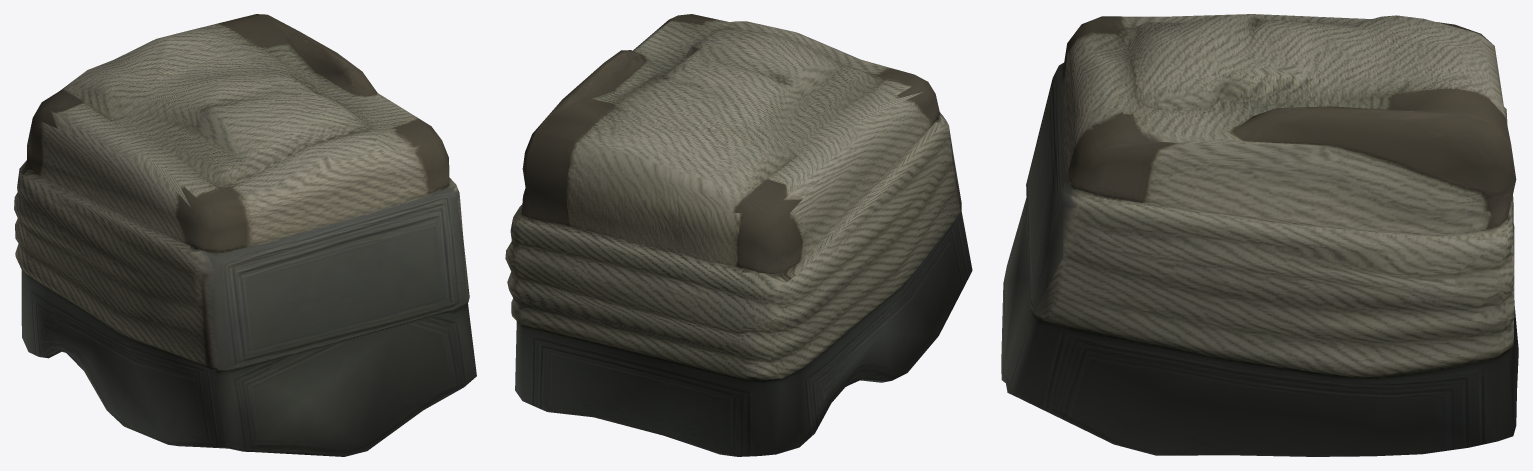
File: WrappedCore-LOD1.glb
The picture shows the model from 3 angles, left to right: view 1: azimuth 30°, elevation 25°; view 2: azimuth 150°, elevation 25°; view 3: azimuth 270°, elevation 25°; orthographic projection. The views are drawn at different scales.
Visible parts, largest first — view 1: WrappedCore_LOD1; view 2: WrappedCore_LOD1; view 3: WrappedCore_LOD1.
Part boxes in pixels (x1=…): WrappedCore_LOD1: x1=14, y1=14, x2=476, y2=456; WrappedCore_LOD1: x1=505, y1=14, x2=972, y2=456; WrappedCore_LOD1: x1=1001, y1=14, x2=1518, y2=456.
Size of the model in its own units: 0.7081 by 0.6571 by 0.8946.
Materials: 1 (1 with a texture image).
